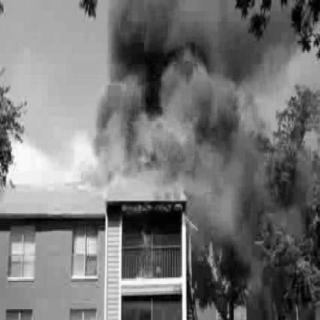Smoke: (111, 1, 251, 57)
